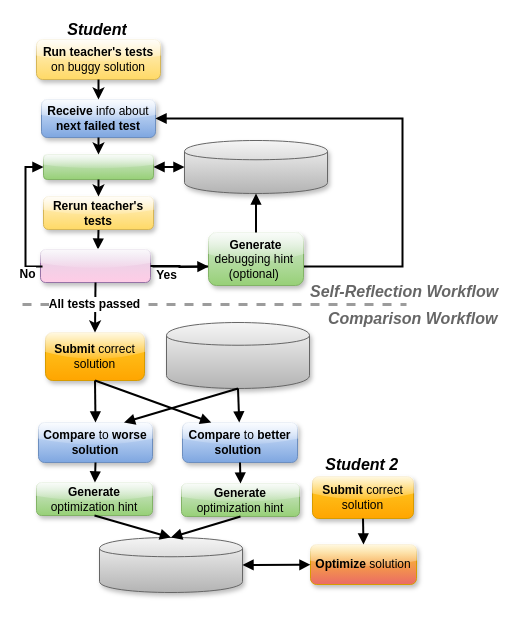
Image size: 515x617. Some labels were removed from this diagram. Each missing label, with the box of its shape:
Debugging hints indexed by failed test case: (180, 136, 334, 200)
Optimization hints indexed by current performance: (94, 532, 248, 600)
Previously submitted correct solutions: (162, 318, 316, 396)
Revise solution: (38, 150, 160, 186)
Test passed?: (36, 244, 156, 290)
